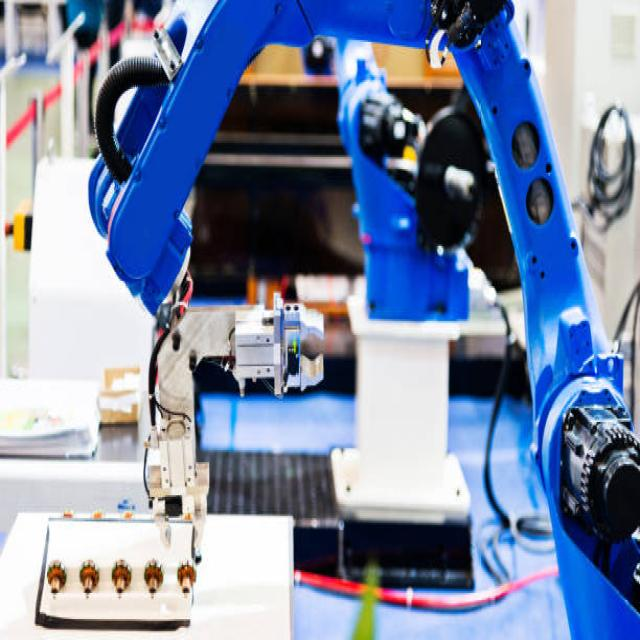Robotic-arm: (82, 0, 640, 535)
